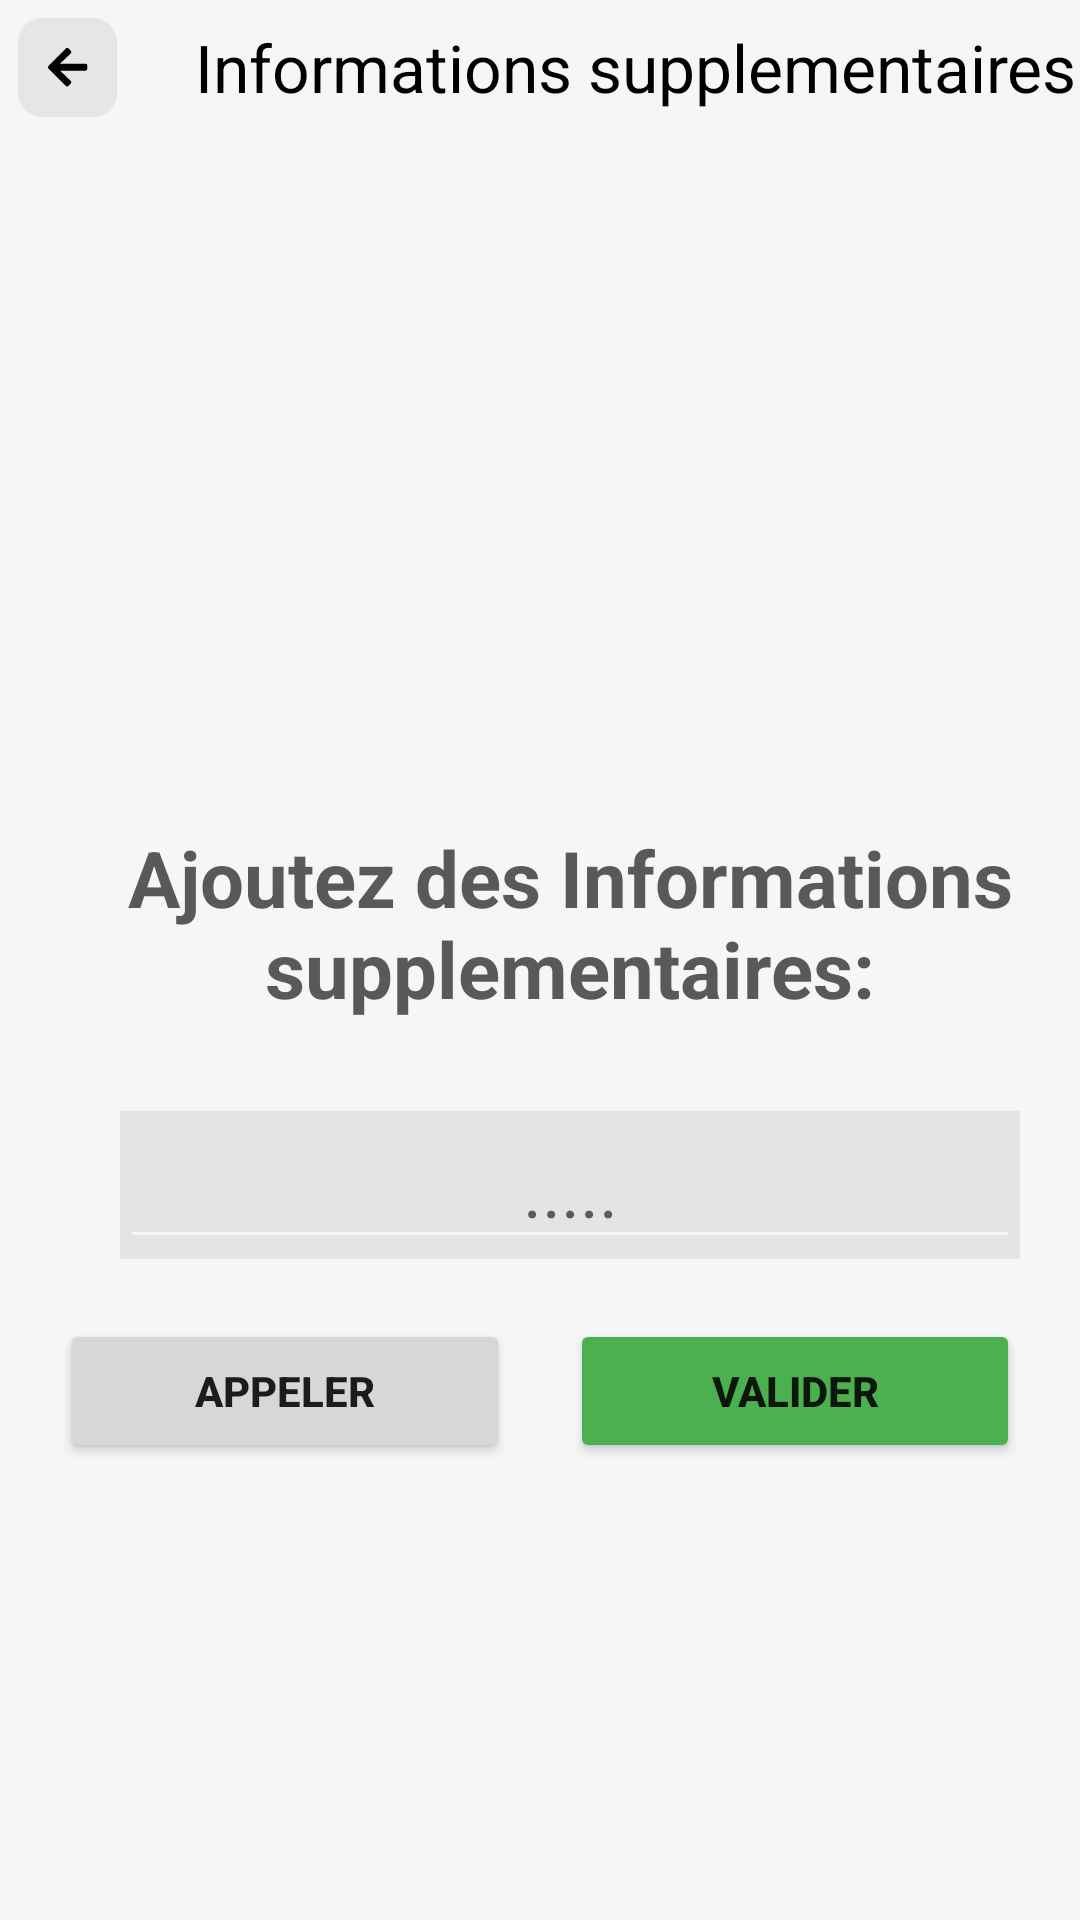

Icon click points for this 1080×1920 phone screenshot, format (x,y):
return: (67,67)
